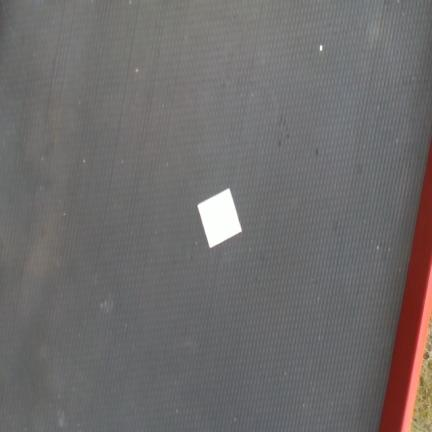Piramide: (198, 187, 242, 248)
